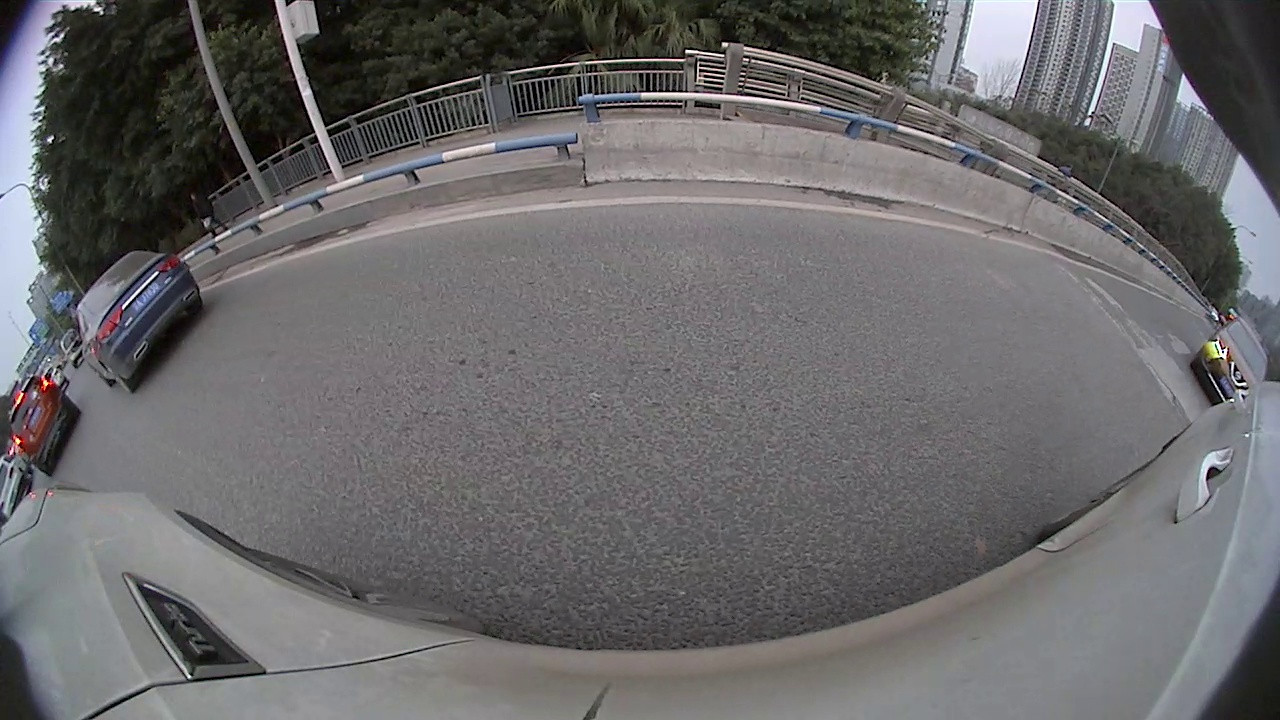car: (70, 247, 206, 394), (6, 374, 84, 478), (1190, 316, 1271, 409), (0, 449, 36, 527), (55, 325, 92, 369), (40, 360, 70, 394)
person: (186, 184, 229, 243)
rear: (104, 361, 138, 398), (181, 294, 207, 320)
